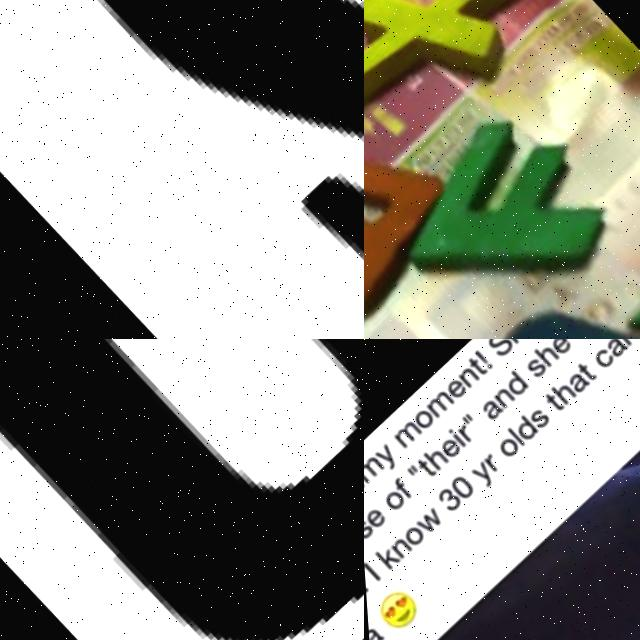A: (561, 370, 590, 398), (475, 396, 502, 423), (600, 339, 628, 362), (364, 622, 379, 640)
C: (587, 348, 613, 373)
D: (404, 260, 640, 339), (496, 369, 527, 400), (506, 414, 536, 445)
E: (440, 375, 466, 402), (433, 435, 459, 461), (545, 339, 571, 359), (364, 505, 383, 529)
F: (369, 89, 640, 339), (386, 474, 410, 500)
H: (416, 442, 446, 472), (529, 342, 557, 370), (547, 379, 574, 407), (495, 339, 525, 345)
I: (443, 427, 462, 447), (364, 559, 375, 580)
K: (367, 541, 396, 571)
L: (502, 427, 521, 448)
M: (387, 418, 420, 450), (421, 388, 453, 418), (364, 452, 382, 484)
N: (488, 385, 514, 411), (453, 364, 479, 389), (383, 535, 407, 559), (613, 339, 639, 349)
O: (491, 434, 519, 462), (407, 405, 433, 431), (377, 487, 403, 513), (396, 522, 422, 548)
R: (477, 453, 498, 474), (453, 424, 472, 444)
S: (3, 0, 364, 339), (480, 339, 514, 361), (520, 356, 546, 382), (524, 407, 549, 432), (364, 516, 369, 539)
T: (461, 354, 486, 380), (539, 391, 563, 415), (411, 457, 433, 480), (573, 361, 595, 384)
U: (0, 339, 364, 640)
W: (364, 112, 463, 339), (411, 507, 440, 535)
X: (364, 0, 572, 168)
Y: (600, 184, 640, 339), (465, 460, 495, 491), (369, 442, 396, 470)
